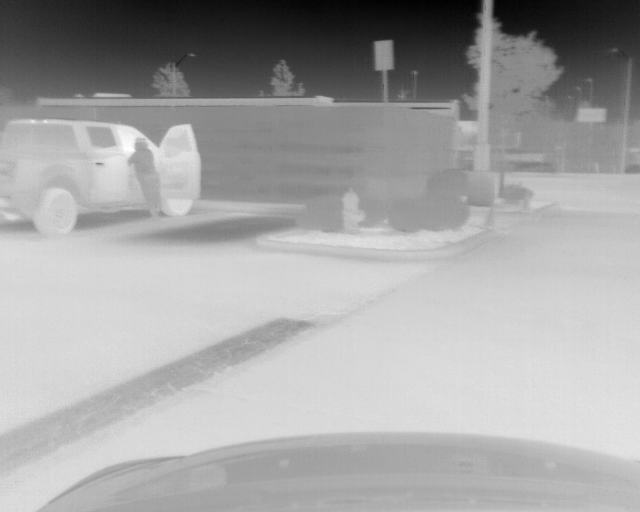car: (1, 118, 202, 230)
people: (127, 137, 163, 223)
